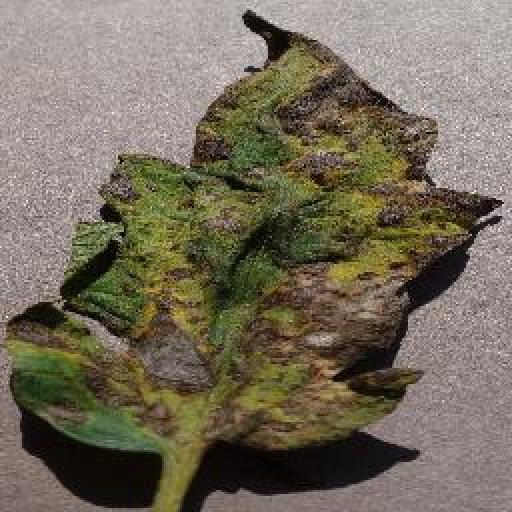Early Blight: (10, 12, 501, 457)
